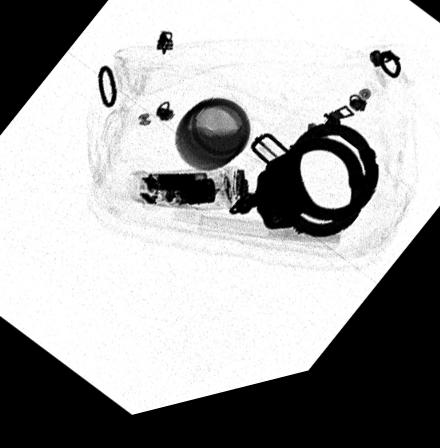HandCuffs: (228, 131, 378, 253)
